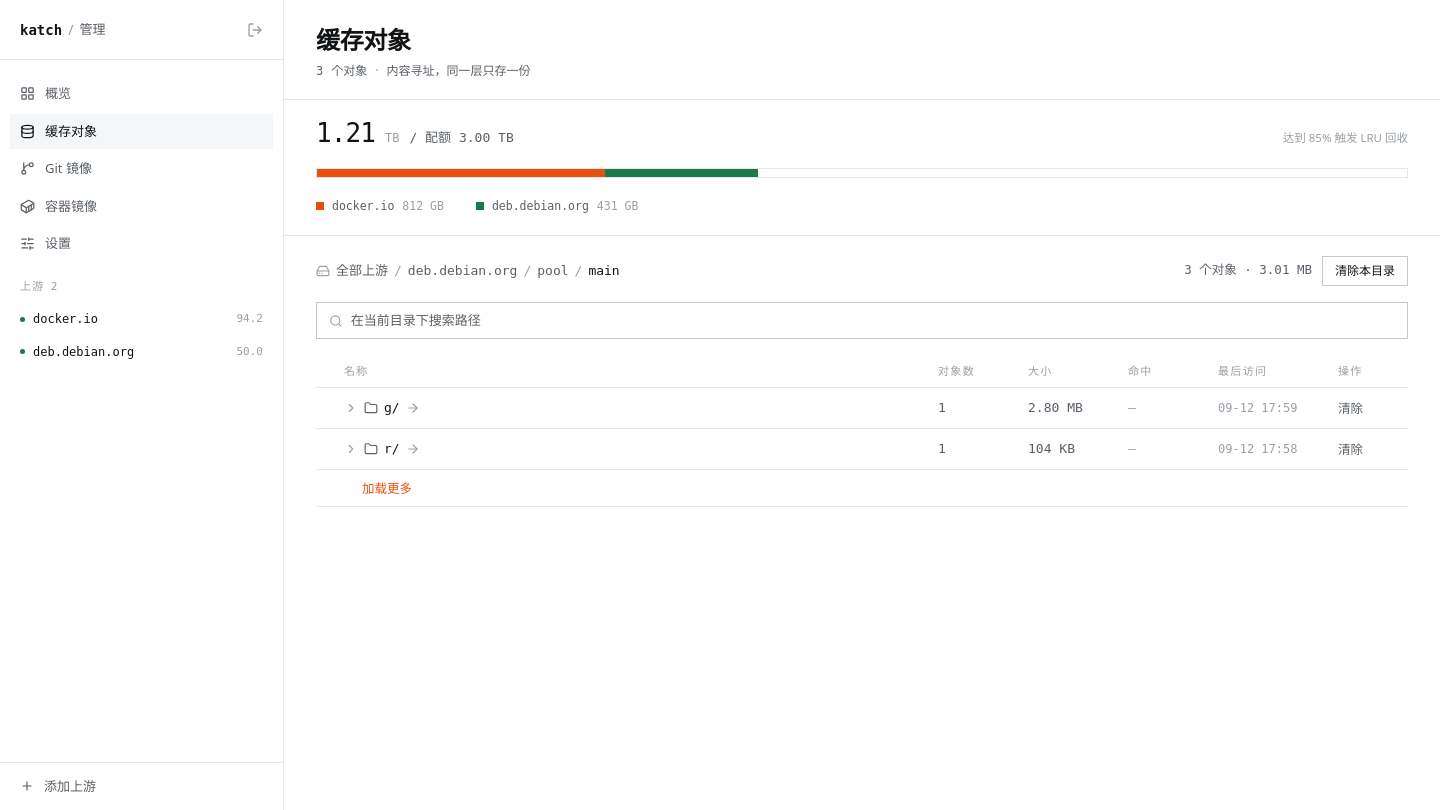
后台 · 缓存对象 › 一层超过一批时末尾给「加载更多」，点了把下一批接在后面
The width and height of the screenshot is (1440, 810).
Expected: the button "g/" is shown, [384,399,400,417]
Expected: the text "z.deb" is not shown
Click the button "加载更多".
click(387, 489)  # box [362,480,412,498]
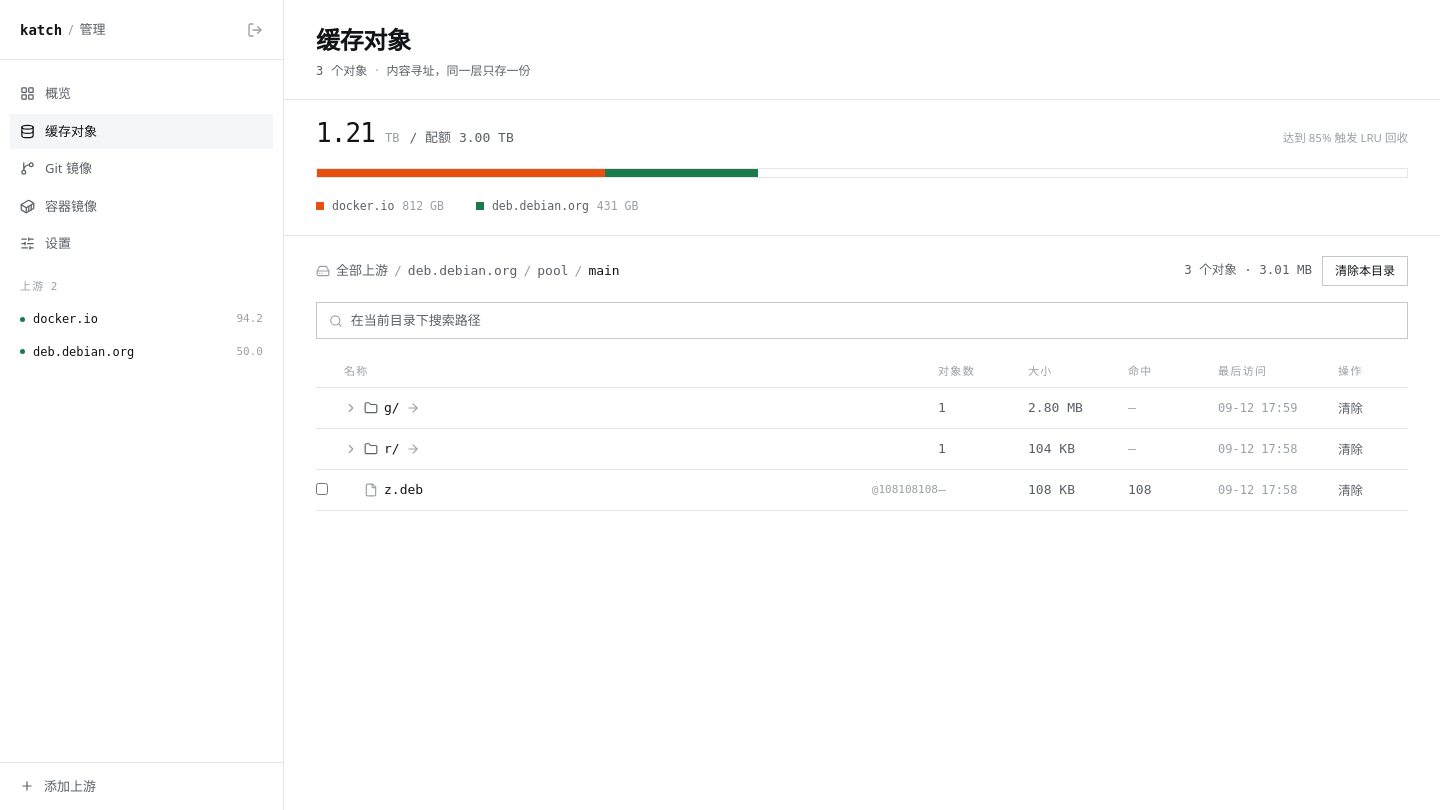
Expected: the button "g/" is shown, [384,399,400,417]
Expected: the text "z.deb" is shown, [384,482,423,497]
Expected: the button "加载更多" is gone
